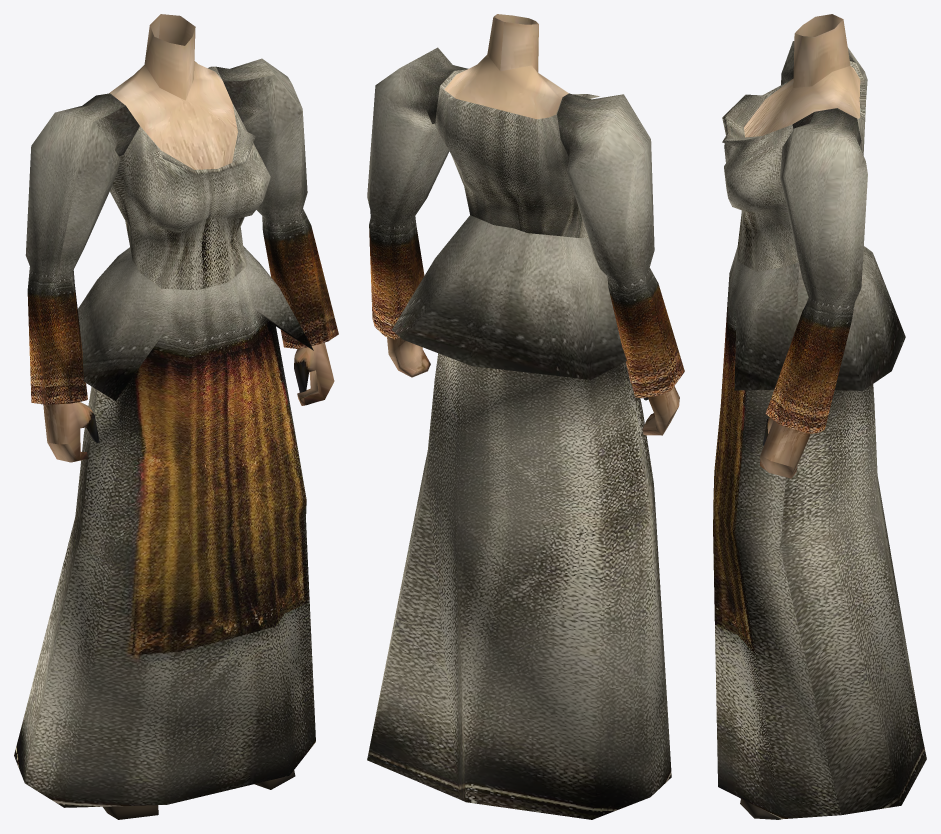
The model's file is ARMOR_WOMAN_CITY_01.glb.
3 renders of one model, left to right at view 1: azimuth 30°, elevation 25°; view 2: azimuth 150°, elevation 25°; view 3: azimuth 270°, elevation 25°, orthographic.
Visible parts, largest first — view 1: ARMOR_WOMAN_CITY_01; view 2: ARMOR_WOMAN_CITY_01; view 3: ARMOR_WOMAN_CITY_01.
Part boxes in pixels (x1,y1,x2,y2): ARMOR_WOMAN_CITY_01: [14, 14, 338, 819]; ARMOR_WOMAN_CITY_01: [367, 14, 684, 819]; ARMOR_WOMAN_CITY_01: [713, 14, 926, 819].
Size of the model in its own units: 0.6832 by 1.68 by 0.4292.
Materials: 2 (2 with a texture image).
